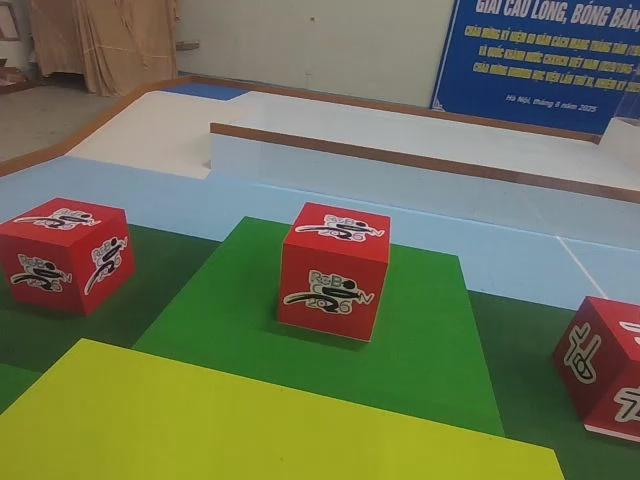R1: (270, 198, 395, 345), (0, 195, 139, 321)
R2 Real: (548, 293, 640, 446)
